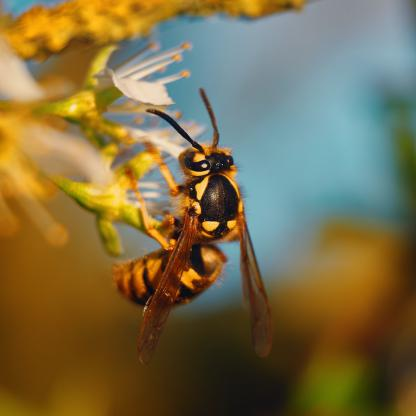other: (101, 78, 290, 375)
